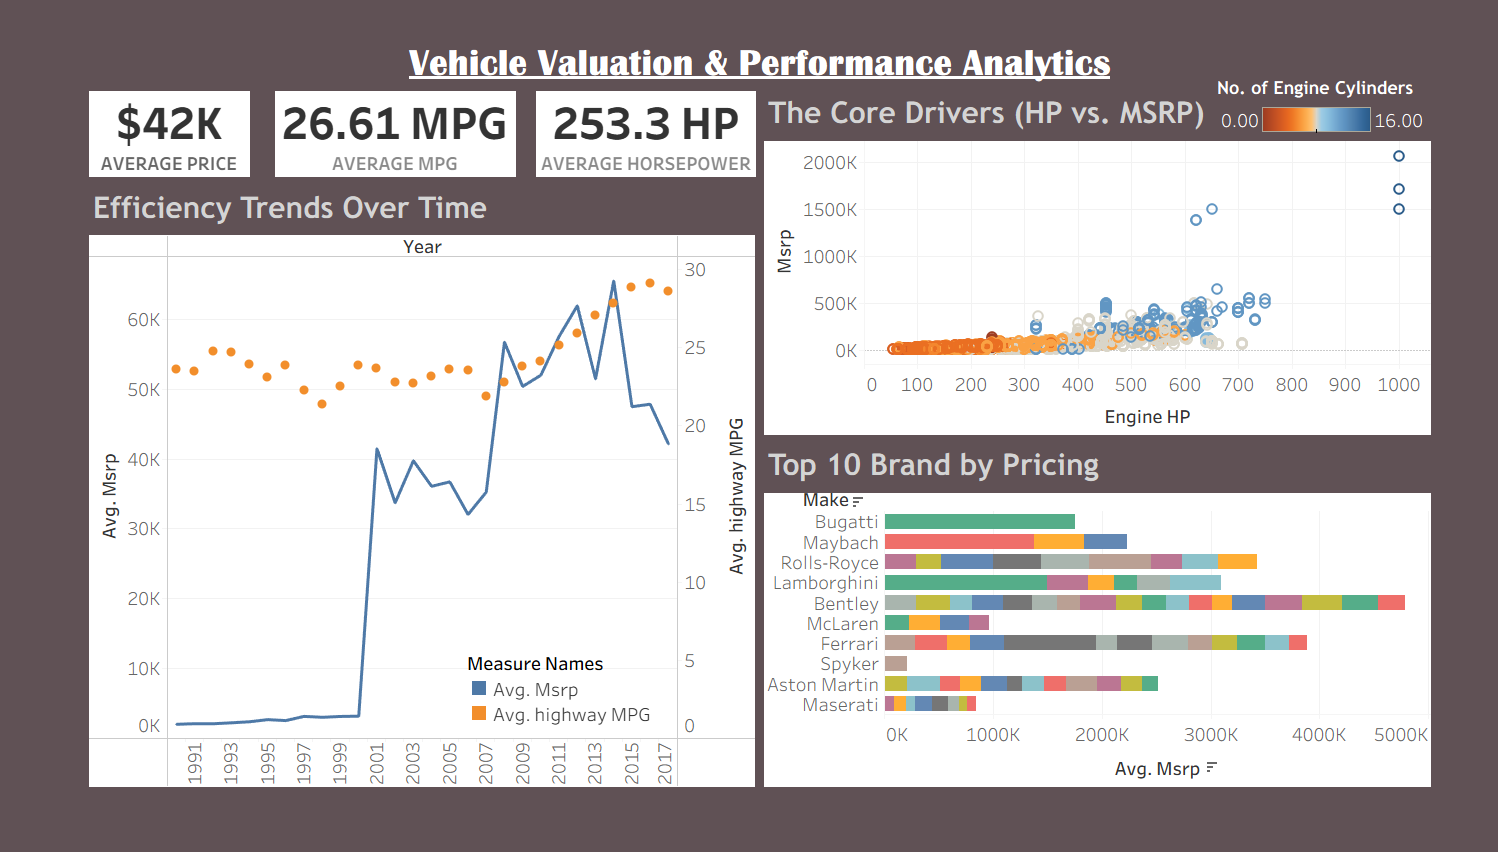

Layout of this report page (visuals, bound fields, positions):
{"tool":"tableau","page":{"name":"Dashboard ","canvas":[1366,768],"ordinal":0},"visuals":[{"type":"title","box":[8,8,1350,48]},{"type":"legend","title":"The Core Drivers (HP vs. MSRP)","param":"[federated.0isojrz1upeh4u15pstnv0zyriju].[sum:Engine Cylinders:qk]","box":[1140,46,211,59]},{"type":"worksheet","title":"KPI Avg Price","mark":"Automatic","box":[8,56,186,95]},{"type":"worksheet","title":"KPI Avg MPG","mark":"Automatic","box":[194,56,261,95]},{"type":"worksheet","title":"KPI Avg HP","mark":"Automatic","box":[455,56,228,95]},{"type":"worksheet","title":"The Core Drivers (HP vs. MSRP)","mark":"Automatic","rows":["MSRP"],"cols":["Engine HP"],"box":[683,56,675,352]},{"type":"worksheet","title":"Efficiency Trends Over Time","mark":"Automatic","rows":["MSRP","highway MPG"],"cols":["Year"],"box":[8,151,675,609]},{"type":"worksheet","title":"Top Brands by Pricing","mark":"Automatic","rows":["Make"],"cols":["MSRP"],"box":[683,408,675,352]},{"type":"legend","title":"Efficiency Trends Over Time","param":"[federated.0isojrz1upeh4u15pstnv0zyriju].[:Measure Names]","box":[390,619,189,76]}]}

Visuals, with their boxes in screenshot pixels (x1, y1, x2, y2), scaled from the page's 1366x768 canvas onto the 1498x852 screenshot:
title: <region>9, 9, 1489, 62</region>
"The Core Drivers (HP vs. MSRP)" legend: <region>1250, 51, 1482, 116</region>
"KPI Avg Price" worksheet: <region>9, 62, 213, 168</region>
"KPI Avg MPG" worksheet: <region>213, 62, 499, 168</region>
"KPI Avg HP" worksheet: <region>499, 62, 749, 168</region>
"The Core Drivers (HP vs. MSRP)" worksheet: <region>749, 62, 1489, 453</region>
"Efficiency Trends Over Time" worksheet: <region>9, 168, 749, 843</region>
"Top Brands by Pricing" worksheet: <region>749, 453, 1489, 843</region>
"Efficiency Trends Over Time" legend: <region>428, 687, 635, 771</region>
